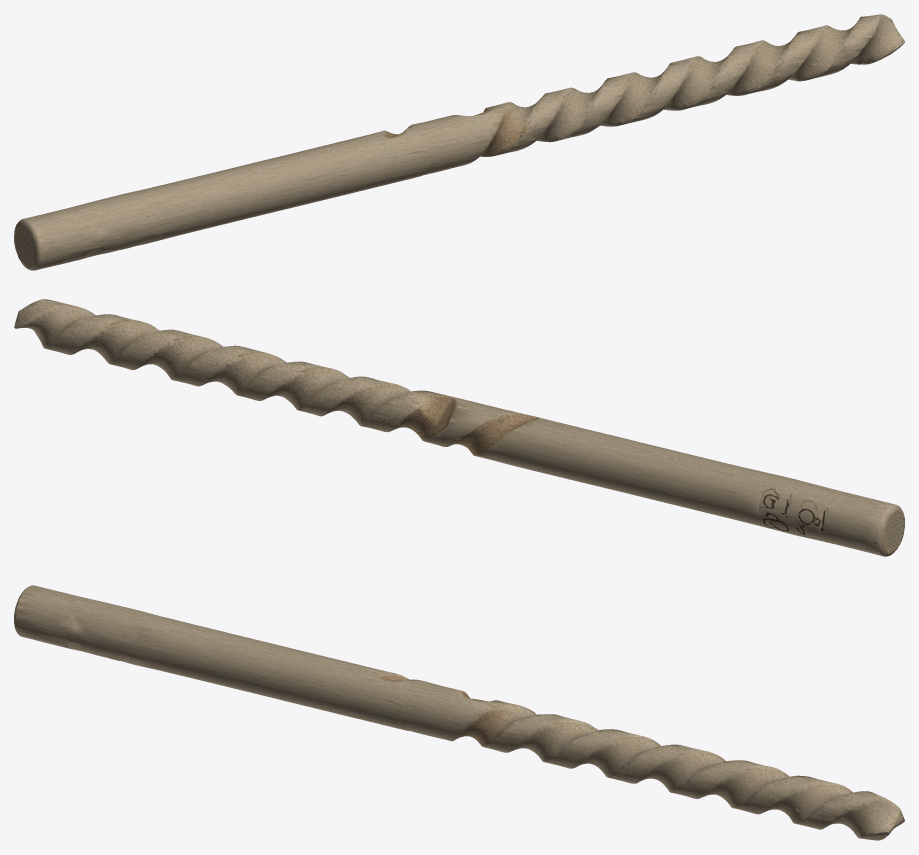
File: tool_250.obj
3 views of the same model, one above another, from view 1: azimuth 30°, elevation 25°; view 2: azimuth 150°, elevation 25°; view 3: azimuth 330°, elevation 25° (orthographic).
Parts seen in each view (by area): view 1: tool_250_tripo_normalized; view 2: tool_250_tripo_normalized; view 3: tool_250_tripo_normalized.
Boxes of the visible parts, x1,y1,x2,y2 form: tool_250_tripo_normalized: [14, 14, 904, 270]; tool_250_tripo_normalized: [14, 299, 904, 556]; tool_250_tripo_normalized: [14, 585, 904, 840].
Bounding box in the file's own units: 100 × 5.42 × 5.22.
1 material, 1 textured.
